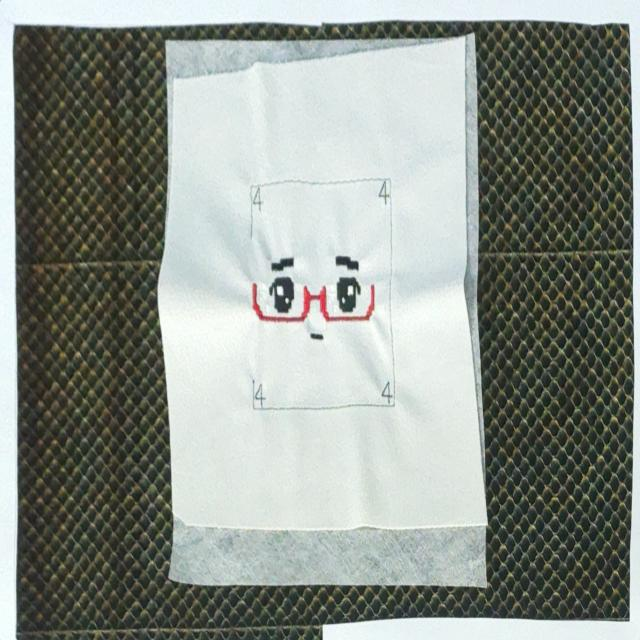4 -: (379, 378, 393, 406), (251, 185, 265, 212), (377, 178, 390, 207), (255, 381, 266, 408)
